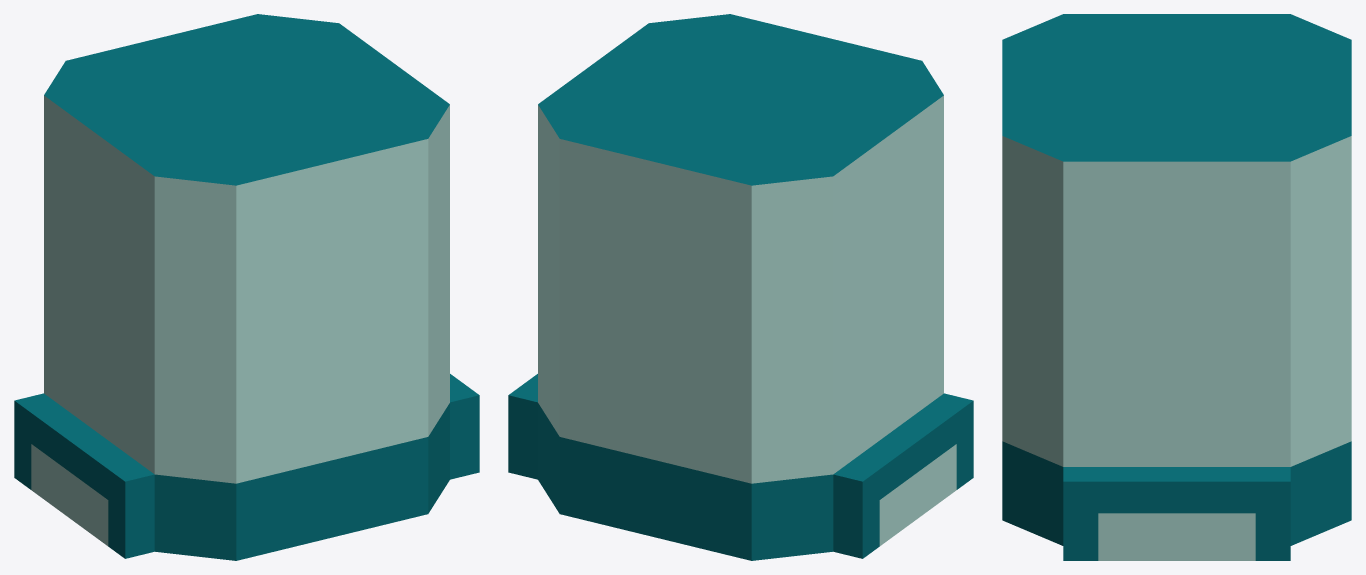
Rendered from skyscraper_tiny.fbx.
3 renders of one model, left to right at view 1: azimuth 30°, elevation 25°; view 2: azimuth 150°, elevation 25°; view 3: azimuth 270°, elevation 25°, orthographic. The views are drawn at different scales.
Parts seen in each view (by area): view 1: skyscraper_tiny; view 2: skyscraper_tiny; view 3: skyscraper_tiny.
Boxes of the visible parts, x1,y1,x2,y2 form: skyscraper_tiny: (14, 14, 479, 560); skyscraper_tiny: (508, 14, 973, 560); skyscraper_tiny: (1002, 14, 1351, 560).
Size of the model in its own units: 336 by 340 by 280.
